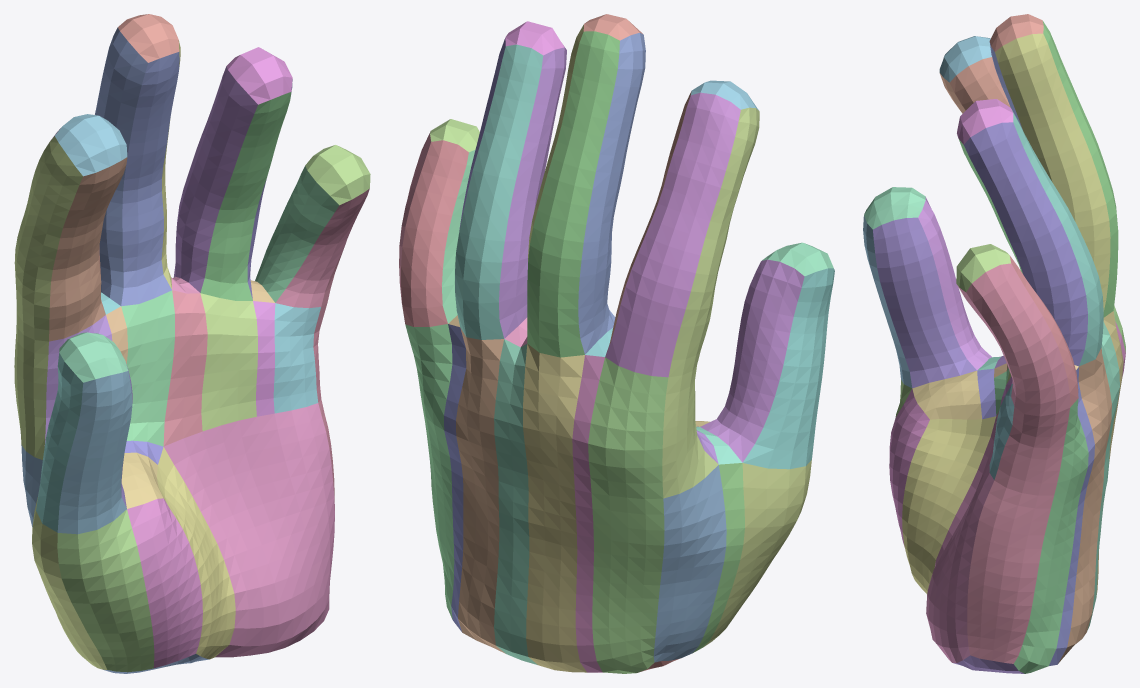
Rendered from hand_patch_color.obj.
3 renders of one model, left to right at view 1: azimuth 30°, elevation 25°; view 2: azimuth 150°, elevation 25°; view 3: azimuth 270°, elevation 25°, orthographic. The views are drawn at different scales.
Bounding box in the file's own units: 25.27 × 43.21 × 17.33.
